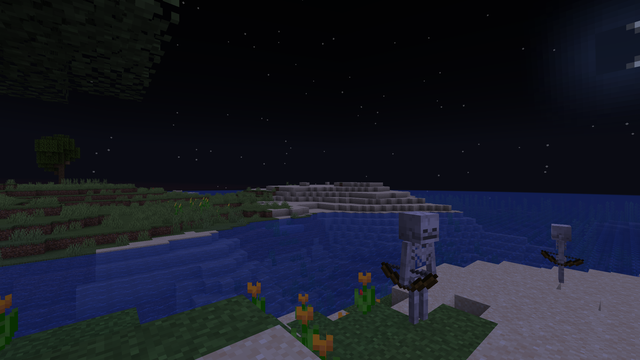squelettes: (395, 210, 441, 332), (548, 223, 573, 285)
